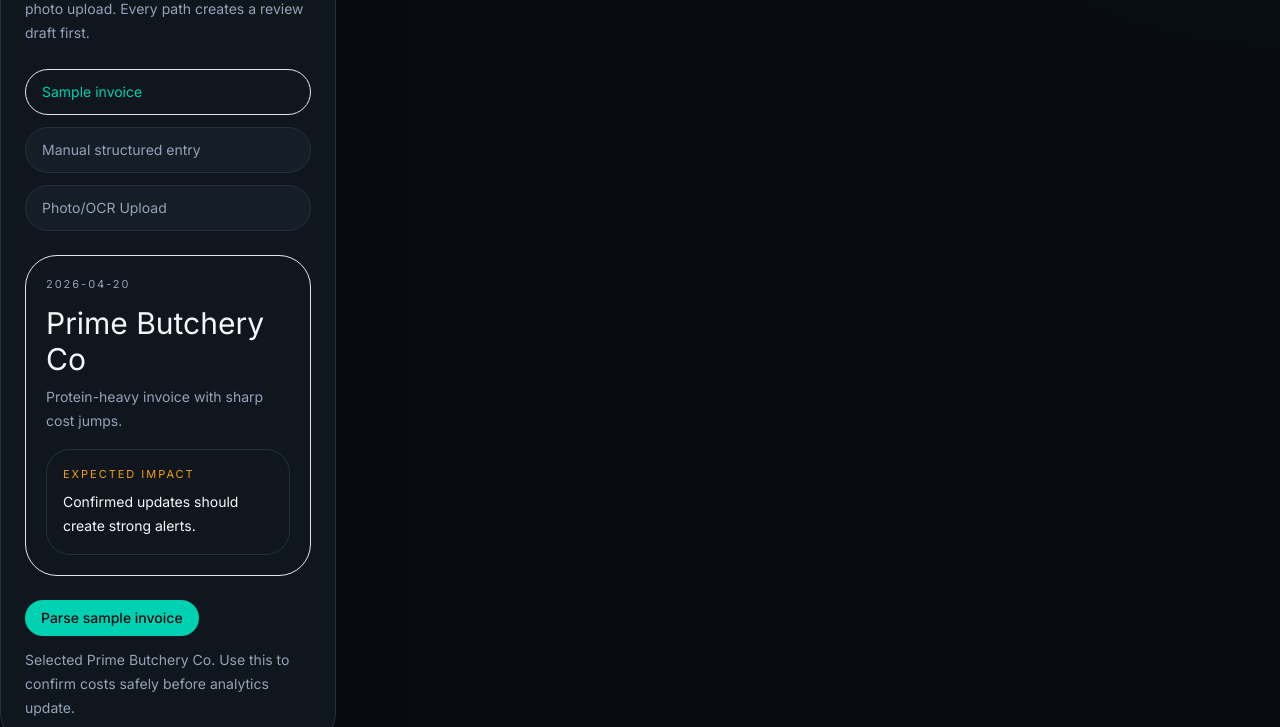
Scenario: InvoicesPage › keeps the confirm button disabled while unresolved lines remain
(page scrolled)
Expected: the text "Selected Prime Butchery Co. Use this to confirm costs safely before analytics update." is shown, [25,648,311,720]
Click the button "Parse sample invoice". click: (112, 618)
box: [25,600,199,636]
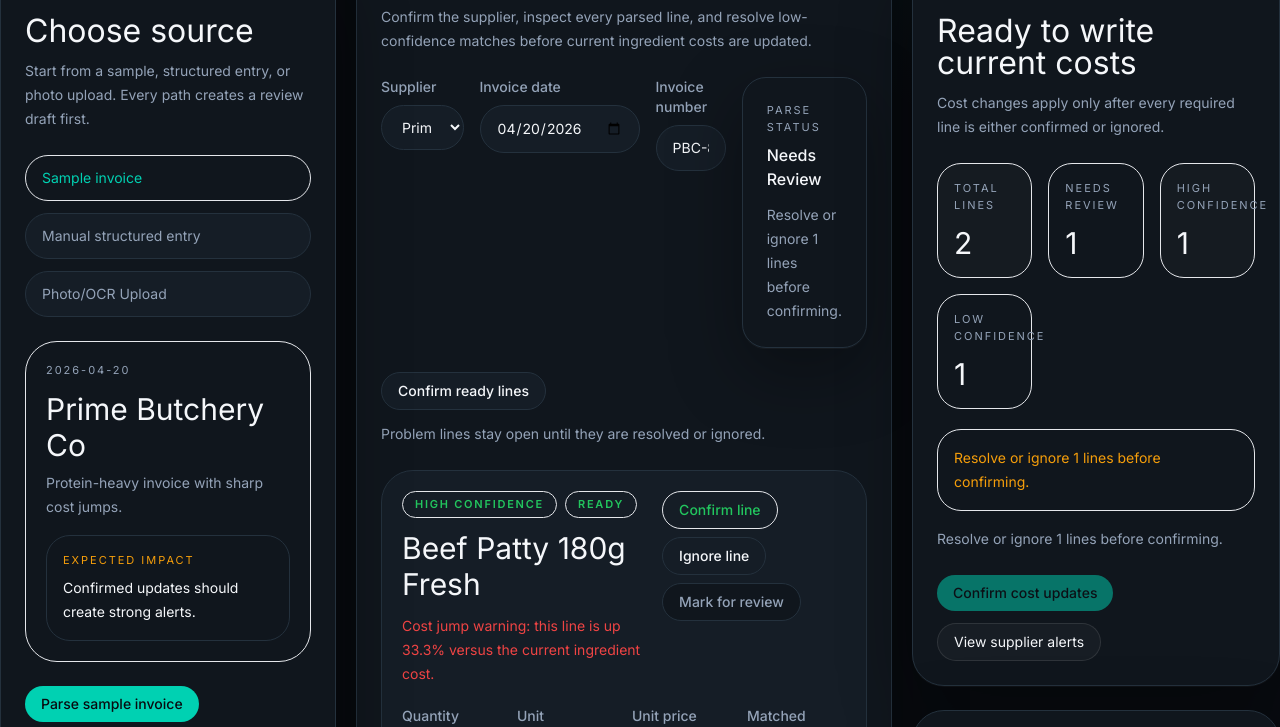
Expected: the button "Confirm cost updates" is disabled, [937,574,1113,610]
Expected: the text "Resolve or ignore 1 lines before confirming." below "Parse status" is shown, [767,206,842,319]
